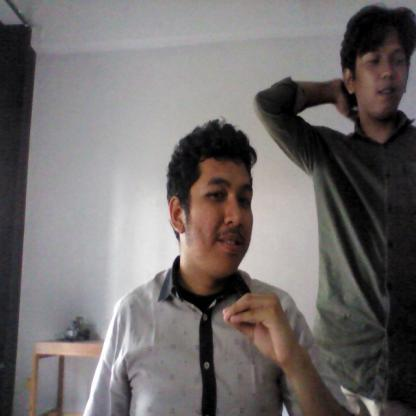Malam: (216, 279, 310, 368)
